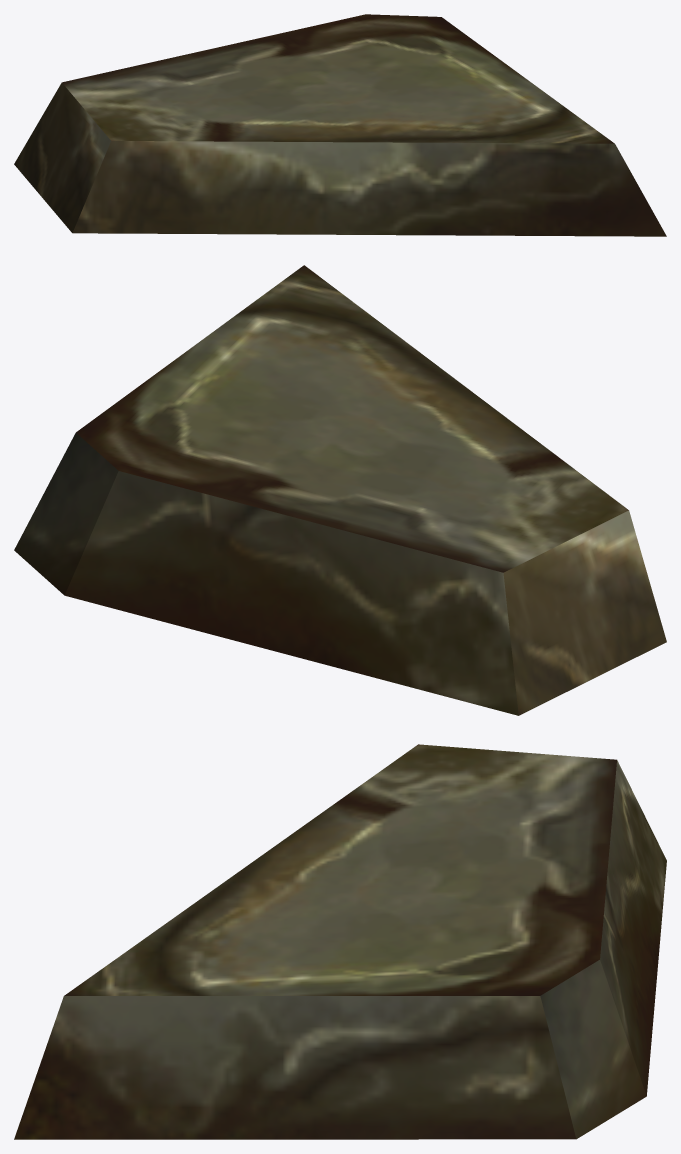
Rendered from C_dizhuan010.fbx.
3 views of the same model, one above another, from view 1: azimuth 30°, elevation 25°; view 2: azimuth 150°, elevation 25°; view 3: azimuth 270°, elevation 25° (orthographic). The views are drawn at different scales.
Visible parts, largest first — view 1: C_dizhuan010; view 2: C_dizhuan010; view 3: C_dizhuan010.
Part boxes in pixels (left/top/right/bottom): C_dizhuan010: left=14, top=14, right=666, bottom=236; C_dizhuan010: left=14, top=265, right=666, bottom=715; C_dizhuan010: left=14, top=744, right=666, bottom=1139.
Bounding box in the file's own units: 133 × 25.19 × 123.
